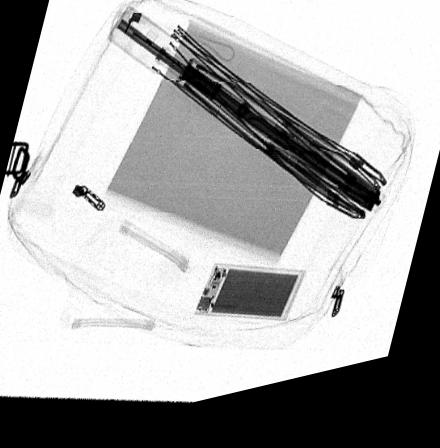Powerbank: (194, 272, 307, 336)
